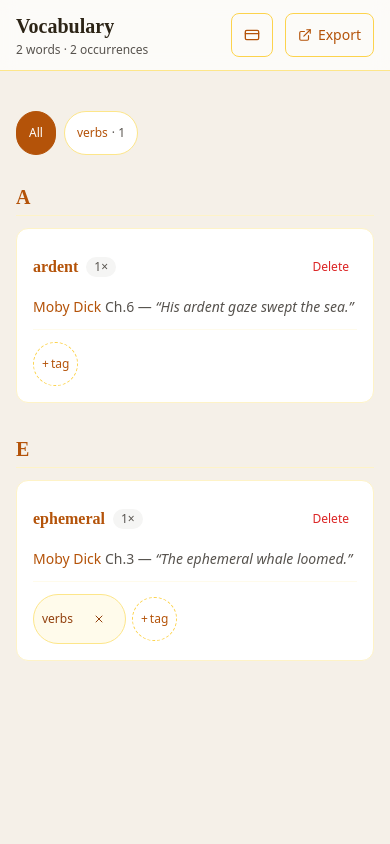
Test: clicking the active pill again toggles the filter off
Expected: the button "ephemeral" is shown, [33,497,105,541]
Click the button with test id "tag-filter-verbs" at point(101, 133), box [64,111,138,155]
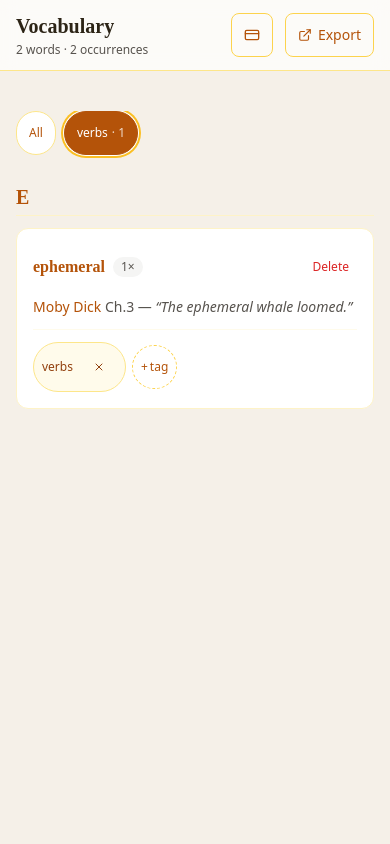
Expected: the button "ardent" is gone
Click the button with test id "tag-filter-verbs" at point(101, 133), box [64,111,138,155]
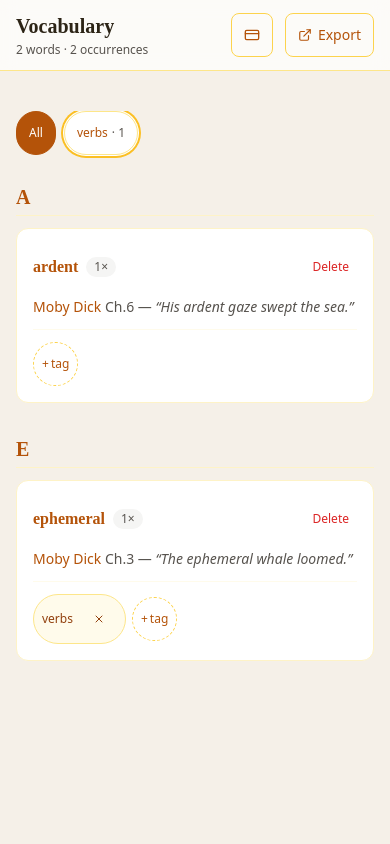
Expected: the button "ardent" is shown, [33,245,78,289]
